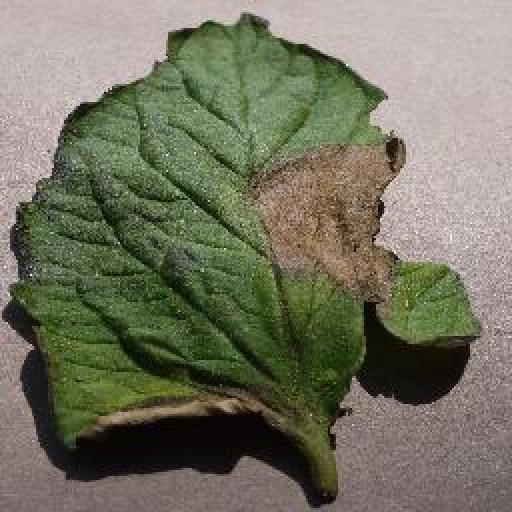Late Blight: (12, 10, 481, 454)
